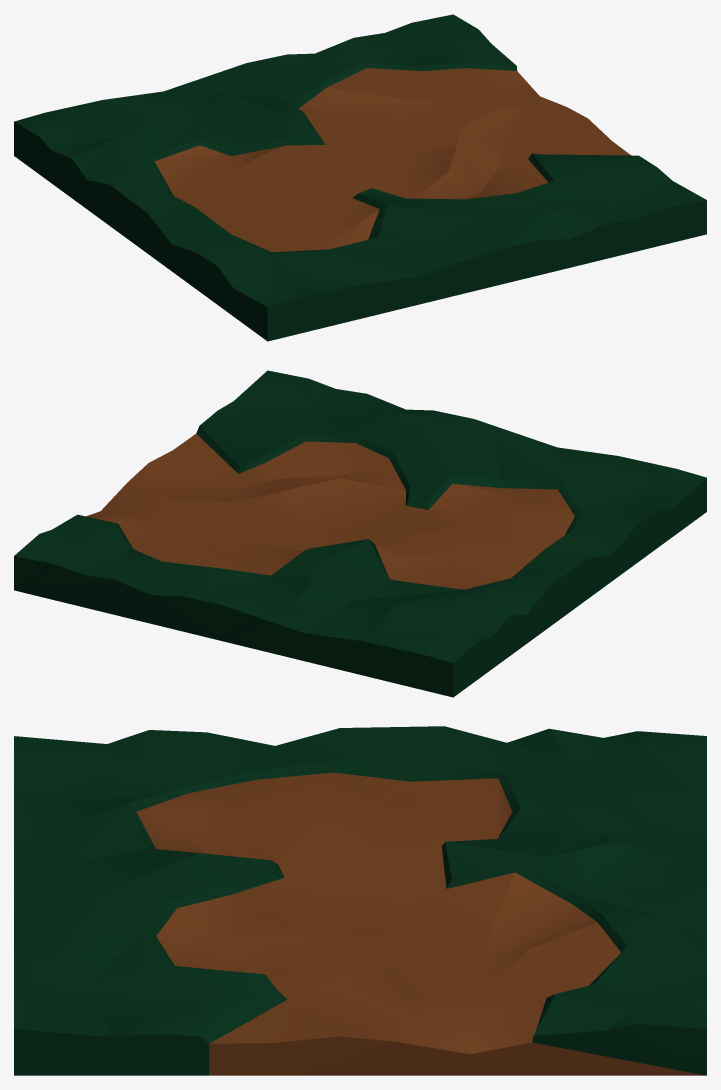
The model's file is Ground_Path_Ending_L.fbx.
3 renders of one model, top to bottom at view 1: azimuth 30°, elevation 25°; view 2: azimuth 150°, elevation 25°; view 3: azimuth 270°, elevation 25°, orthographic. The views are drawn at different scales.
Parts seen in each view (by area): view 1: Ground_Path_Ending_L; view 2: Ground_Path_Ending_L; view 3: Ground_Path_Ending_L.
Boxes of the visible parts, x1=… form: Ground_Path_Ending_L: x1=14, y1=14, x2=706, y2=341; Ground_Path_Ending_L: x1=14, y1=370, x2=706, y2=697; Ground_Path_Ending_L: x1=14, y1=726, x2=706, y2=1075.
Size of the model in its own units: 147 by 14.69 by 147.
